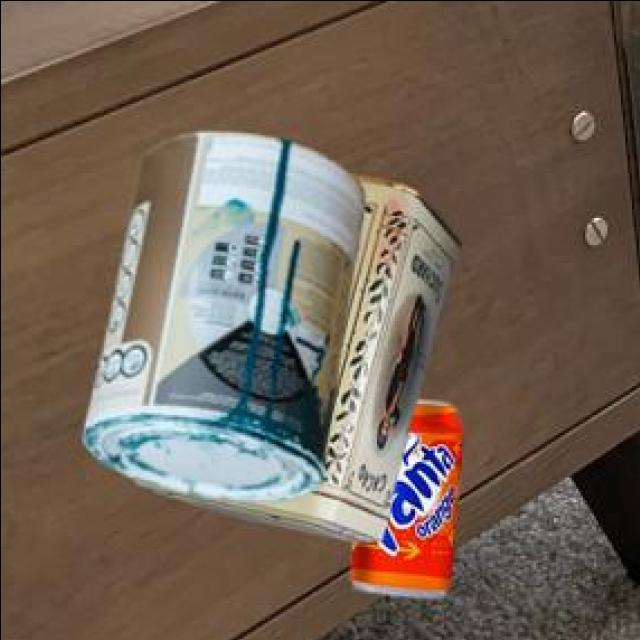logam: (129, 171, 455, 538), (79, 129, 359, 498), (346, 397, 458, 594)
